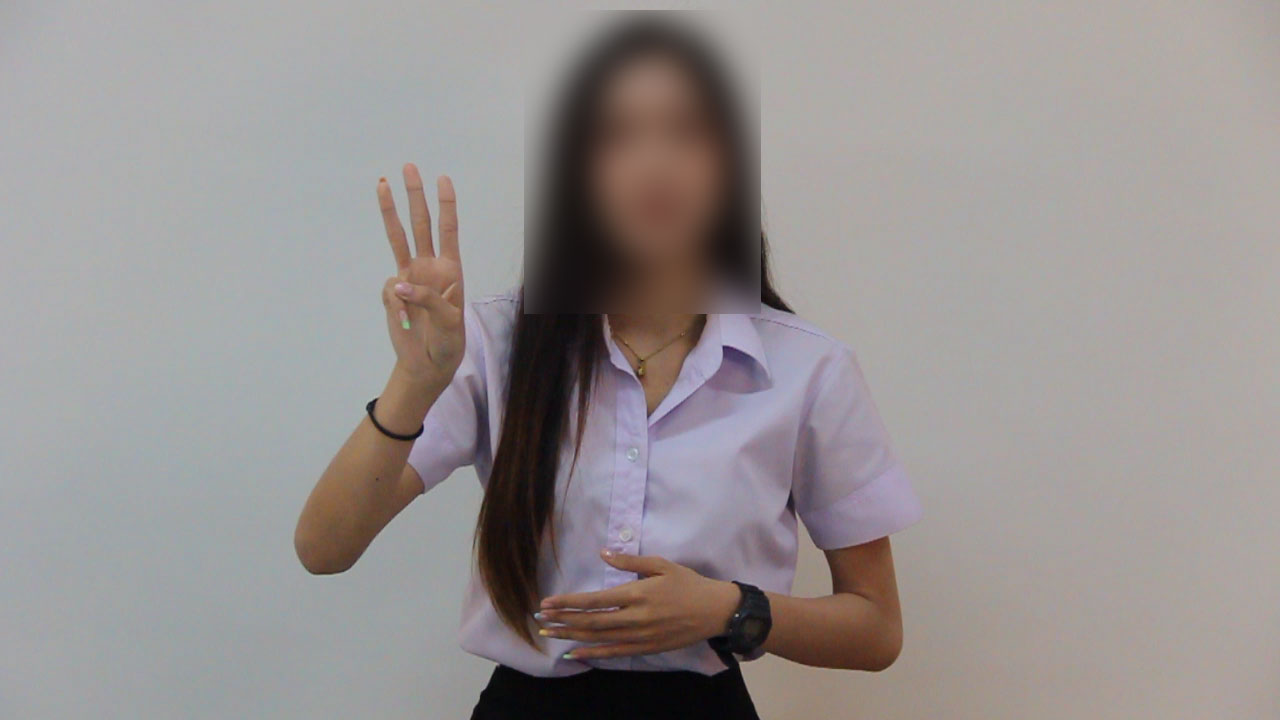wor: (358, 157, 474, 400)
